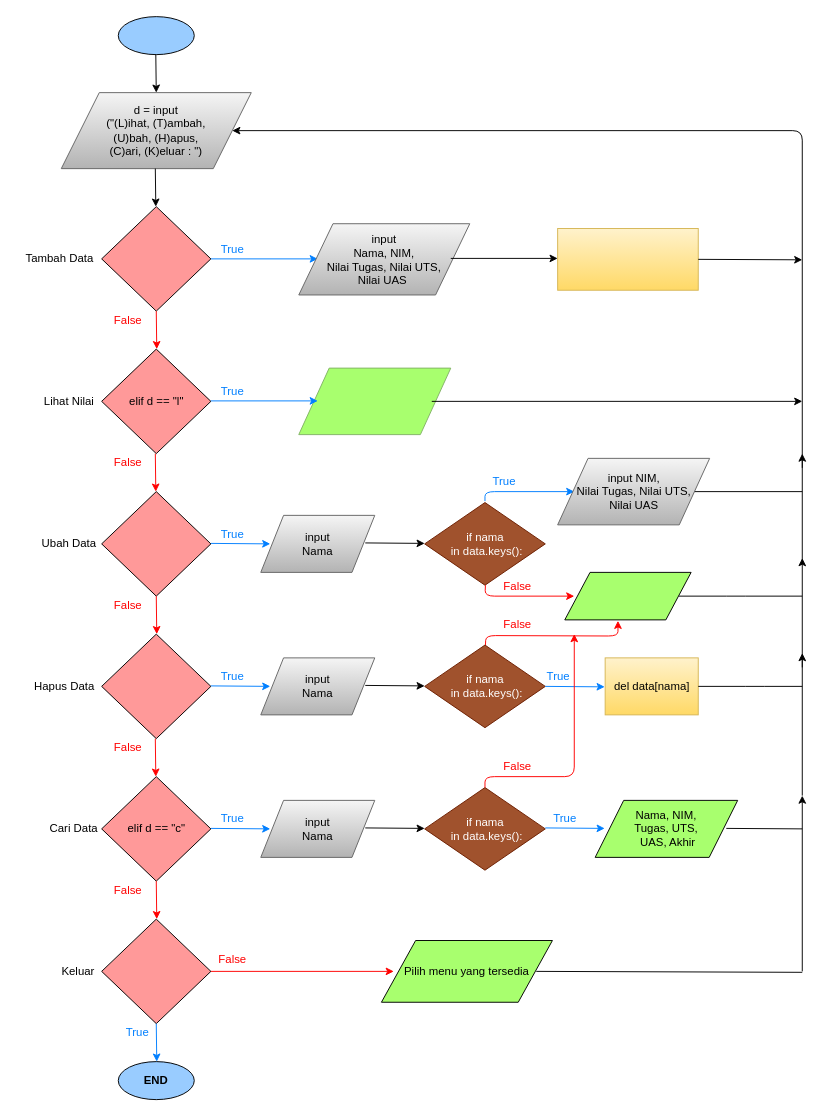
This 827x1116 diagram has some shape labels left out. Each missing label, with the box of its shape:
Data tidak ada: (564, 571, 691, 620)
elif d == "h": (101, 633, 211, 739)
elif d == "k": (101, 918, 211, 1024)
elif d == "u": (101, 491, 211, 596)
if d == "t": (101, 206, 211, 311)
Mengakses data & Kalkulasi nilai akhir: (557, 228, 698, 290)
No., Nama, NIM, Tugas, UTS, UAS, Akhir: (298, 367, 451, 435)
START: (117, 16, 194, 55)
